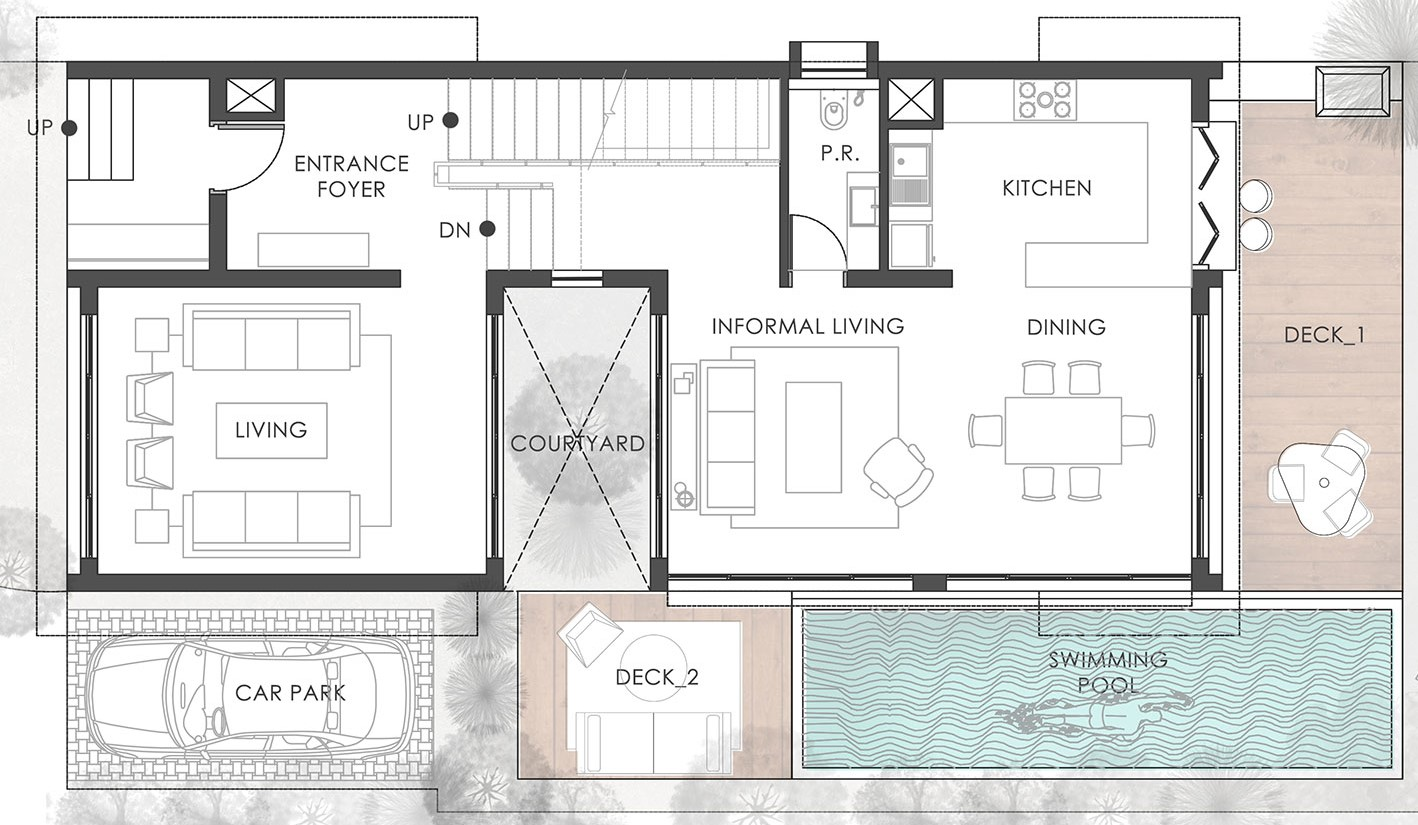wall: (67, 57, 786, 77), (867, 59, 1222, 80), (69, 574, 500, 590), (64, 269, 399, 287), (878, 73, 889, 281), (844, 267, 951, 288), (667, 573, 1205, 577), (779, 80, 789, 288), (600, 269, 669, 290), (207, 188, 223, 271), (486, 270, 550, 288), (1189, 74, 1210, 121), (206, 111, 281, 123), (648, 267, 667, 314), (884, 118, 941, 133), (1193, 271, 1212, 316), (209, 77, 226, 126), (486, 267, 503, 315), (934, 74, 945, 133), (484, 556, 503, 590), (1189, 556, 1209, 588), (786, 39, 802, 77), (650, 557, 667, 590), (82, 283, 100, 314), (81, 559, 99, 587), (864, 38, 876, 80), (275, 70, 285, 119), (1192, 269, 1224, 284)
